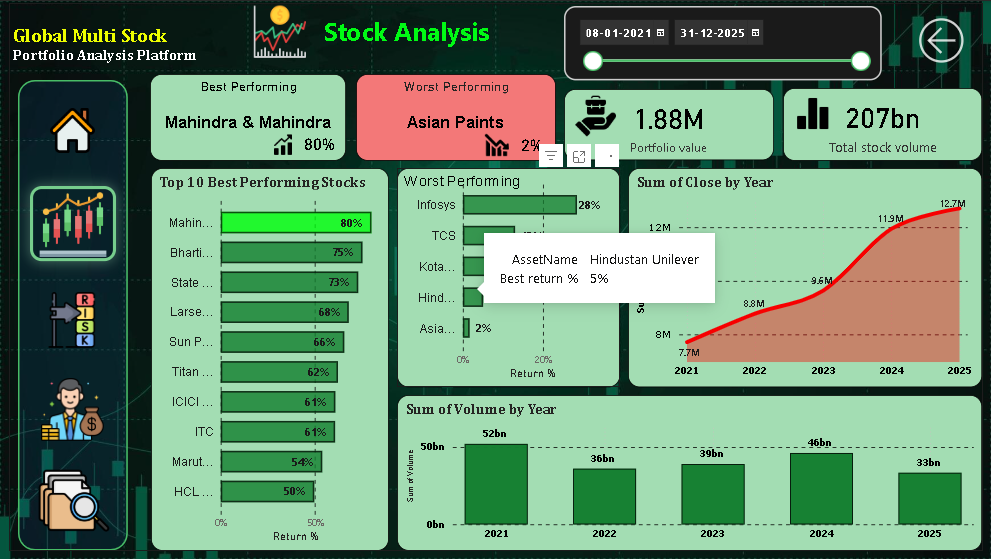

What the dashboard file says about the page in this screenshot:
{"tool":"powerbi","page":{"name":"Stock Analysis","canvas":[1280,720],"ordinal":1},"visuals":[{"type":"group","id":"g1","title":"Group 3","box":[12.1,2.9,1255.8,707],"z":0,"group":"g2"},{"type":"shape","box":[23.1,102.7,141.7,607.2],"z":0,"group":"g1"},{"type":"textbox","box":[12.1,24.3,327.3,63.6],"z":1000,"group":"g1"},{"type":"card","title":"Best Performing","fields":{"Values":["measure.Best Performing stock"]},"box":[194.7,94.1,253.2,112.1],"z":1000,"group":"g4"},{"type":"image","box":[37.5,598.4,115.6,92.2],"z":1000,"group":"g2"},{"type":"group","id":"g2","title":"Group 4","box":[12.1,2.9,1255.8,707],"z":1001},{"type":"image","box":[34.7,138.8,120,57.8],"z":2000,"group":"g1"},{"type":"card","title":"Worst Performing","fields":{"Values":["measure.Worst Performing stock"]},"box":[459.7,94.1,257.9,111.9],"z":3000,"group":"g3"},{"type":"actionButton","box":[27.4,118.6,134.5,107],"z":3000,"group":"g1"},{"type":"card","fields":{"Values":["measure.Portfolio value"]},"box":[728.4,113.6,270.9,92.5],"z":4000,"group":"g1"},{"type":"card","fields":{"Values":["measure.Best return %"]},"box":[378.6,159.2,70.8,53.4],"z":5000,"group":"g4"},{"type":"image","box":[43.4,375.9,99.8,72.3],"z":5000,"group":"g1"},{"type":"card","fields":{"Values":["measure.Total stock volume"]},"box":[1010.6,112.8,257.3,94],"z":6000,"group":"g1"},{"type":"card","fields":{"Values":["measure.Worst return %"]},"box":[649.3,168.7,75.2,35.1],"z":6000,"group":"g3"},{"type":"actionButton","box":[22,347.2,140.2,115.7],"z":7000,"group":"g1"},{"type":"image","box":[53.5,487.2,81,81],"z":8000,"group":"g1"},{"type":"actionButton","box":[24.6,475.7,141.7,104.1],"z":9000,"group":"g1"},{"type":"actionButton","box":[18.2,587.4,142.2,114.1],"z":11000,"group":"g1"},{"type":"textbox","box":[367.2,10.1,315.2,59.3],"z":12000,"group":"g1"},{"type":"image","box":[326.3,2.9,72.3,73.7],"z":13000,"group":"g1"},{"type":"actionButton","box":[1176.2,8.1,77.9,86],"z":14000,"group":"g1"},{"type":"barChart","title":"Top 10 Best Performing Stocks","fields":{"Category":["Fact_stock.AssetName"],"Y":["measure.Return %"]},"box":[195.2,215.4,306.5,494.5],"z":15000,"group":"g1"},{"type":"image","box":[39,238.6,111.3,96.9],"z":16000,"group":"g1"},{"type":"actionButton","box":[27.4,234.2,134.5,107],"z":17000,"group":"g1"},{"type":"group","id":"g3","title":"Group 1","box":[459.7,94.1,264.9,111.9],"z":18000,"group":"g1"},{"type":"group","id":"g4","title":"Group 2","box":[194.7,94.1,253.1,118.4],"z":19000,"group":"g1"},{"type":"image","box":[741.7,99.8,56.4,98.3],"z":20000,"group":"g1"},{"type":"image","box":[1026.5,112.8,46.3,66.5],"z":21000,"group":"g1"},{"type":"lineChart","fields":{"Category":["Dim_date.Date.Variation.Date Hierarchy.Year","Dim_date.Date.Variation.Date Hierarchy.Quarter","Dim_date.Date.Variation.Date Hierarchy.Month","Dim_date.Date.Variation.Date Hierarchy.Day"],"Y":["Sum(Fact_stock.Close)"]},"box":[811.1,215.4,456.9,283.4],"z":22000,"group":"g1"},{"type":"image","box":[337.9,169.8,57.3,30.3],"z":23000,"group":"g4"},{"type":"barChart","fields":{"Y":["measure.Best return %"],"Category":["Dim_assets.AssetName"]},"box":[513.2,215.4,287.7,283.4],"z":23000,"group":"g1"},{"type":"image","box":[612,170.2,58.1,31],"z":24000,"group":"g3"},{"type":"textbox","box":[516.1,215.4,192.3,59.3],"z":24000,"group":"g1"},{"type":"columnChart","fields":{"Y":["Sum(Fact_stock.Volume)"],"Category":["Dim_date.Date.Variation.Date Hierarchy.Year"]},"box":[513.2,508.9,754.7,201],"z":25000,"group":"g1"},{"type":"slicer","fields":{"Values":["Dim_date.Date"]},"box":[728.4,6.5,410.4,95.7],"z":26000,"group":"g1"}]}

Visuals, with their boxes in screenshot pixels (x1, y1, x2, y2), scaled from the page's 1280x720 canvas onto the 991x559 screenshot:
"Group 3" group: <box>9,2,982,551</box>
shape: <box>18,80,128,551</box>
textbox: <box>9,19,263,68</box>
"Best Performing" card: <box>151,73,347,160</box>
image: <box>29,465,119,536</box>
"Group 4" group: <box>9,2,982,551</box>
image: <box>27,108,120,153</box>
"Worst Performing" card: <box>356,73,556,160</box>
actionButton: <box>21,92,125,175</box>
card - measure.Portfolio value: <box>564,88,774,160</box>
card - measure.Best return %: <box>293,124,348,165</box>
image: <box>34,292,111,348</box>
card - measure.Total stock volume: <box>782,88,982,161</box>
card - measure.Worst return %: <box>503,131,561,158</box>
actionButton: <box>17,270,126,359</box>
image: <box>41,378,104,441</box>
actionButton: <box>19,369,129,450</box>
actionButton: <box>14,456,124,545</box>
textbox: <box>284,8,528,54</box>
image: <box>253,2,309,59</box>
actionButton: <box>911,6,971,73</box>
"Top 10 Best Performing Stocks" barChart: <box>151,167,388,551</box>
image: <box>30,185,116,260</box>
actionButton: <box>21,182,125,265</box>
"Group 1" group: <box>356,73,561,160</box>
"Group 2" group: <box>151,73,347,165</box>
image: <box>574,77,618,154</box>
image: <box>795,88,831,139</box>
lineChart - Dim_date.Date.Variation.Date Hierarchy.Year x Dim_date.Date.Variation.Date Hierarchy.Quarter: <box>628,167,982,387</box>
image: <box>262,132,306,155</box>
barChart - measure.Best return % x Dim_assets.AssetName: <box>397,167,620,387</box>
image: <box>474,132,519,156</box>
textbox: <box>400,167,548,213</box>
columnChart - Sum(Fact_stock.Volume) x Dim_date.Date.Variation.Date Hierarchy.Year: <box>397,395,982,551</box>
slicer - Dim_date.Date: <box>564,5,882,79</box>
